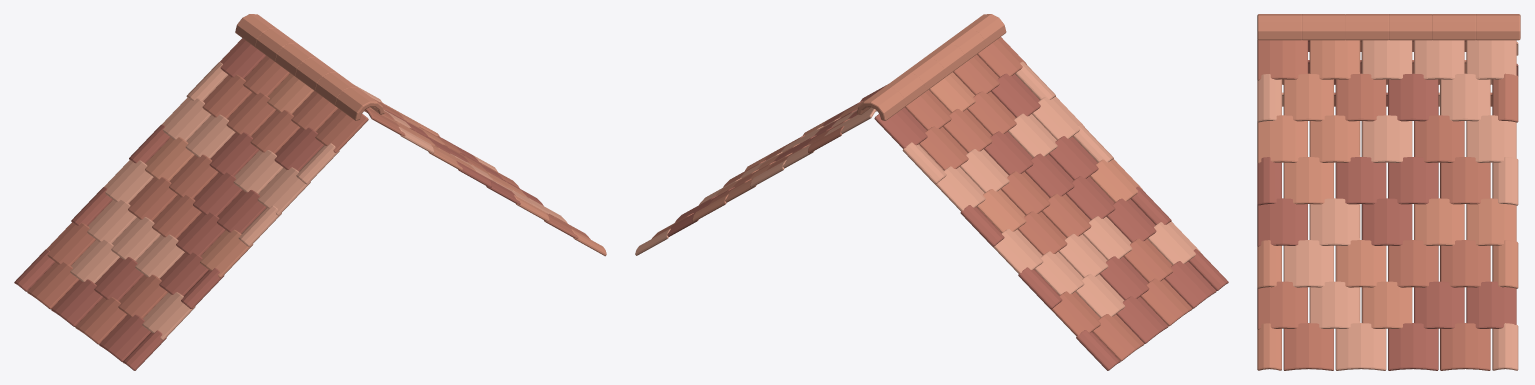
Rendered from roof_gable_4x2m__finish.glb.
3 renders of one model, left to right at view 1: azimuth 30°, elevation 25°; view 2: azimuth 150°, elevation 25°; view 3: azimuth 270°, elevation 25°, orthographic. The views are drawn at different scales.
Parts seen in each view (by area): view 1: roof_gable_4x2m__finish__mesh_00; view 2: roof_gable_4x2m__finish__mesh_00; view 3: roof_gable_4x2m__finish__mesh_00.
Part boxes in pixels (x1,y1,x2,y2): roof_gable_4x2m__finish__mesh_00: (14,14,606,370); roof_gable_4x2m__finish__mesh_00: (635,14,1228,370); roof_gable_4x2m__finish__mesh_00: (1257,14,1520,370).
Bounding box in the file's own units: 4.59 × 1.95 × 2.02.
